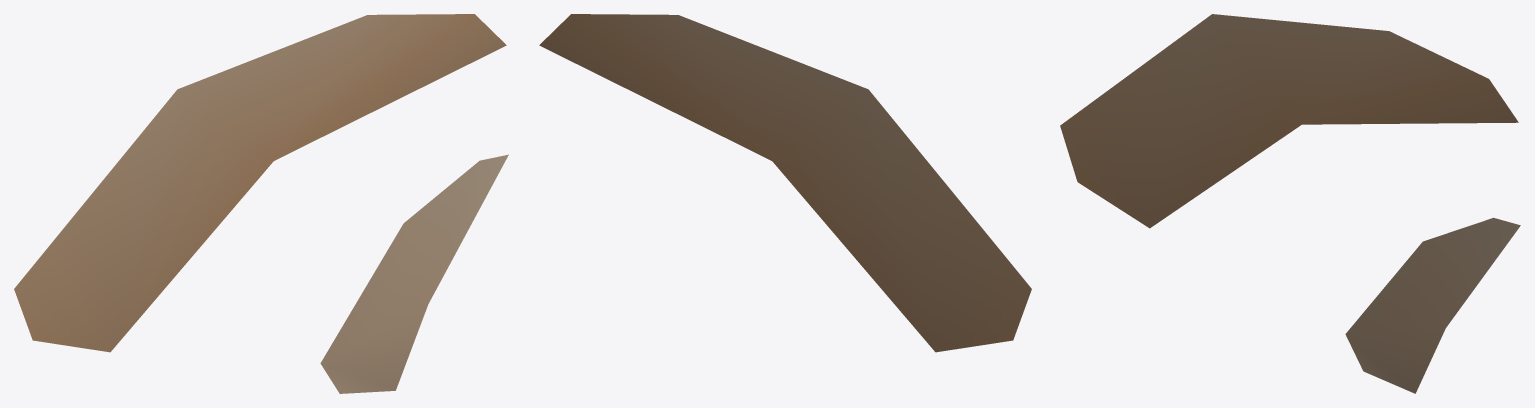
File: CavePaintingBurst.glb
3 renders of one model, left to right at view 1: azimuth 30°, elevation 25°; view 2: azimuth 150°, elevation 25°; view 3: azimuth 330°, elevation 25°, orthographic. The views are drawn at different scales.
Visible parts, largest first — view 1: CavePaintingBurst; view 2: CavePaintingBurst; view 3: CavePaintingBurst.
Part boxes in pixels (x1,y1,x2,y2): CavePaintingBurst: [14, 14, 508, 393]; CavePaintingBurst: [539, 14, 1031, 352]; CavePaintingBurst: [1060, 14, 1520, 393].
Bounding box in the file's own units: 0.125 × 0.0924 × 2.31e-07.
